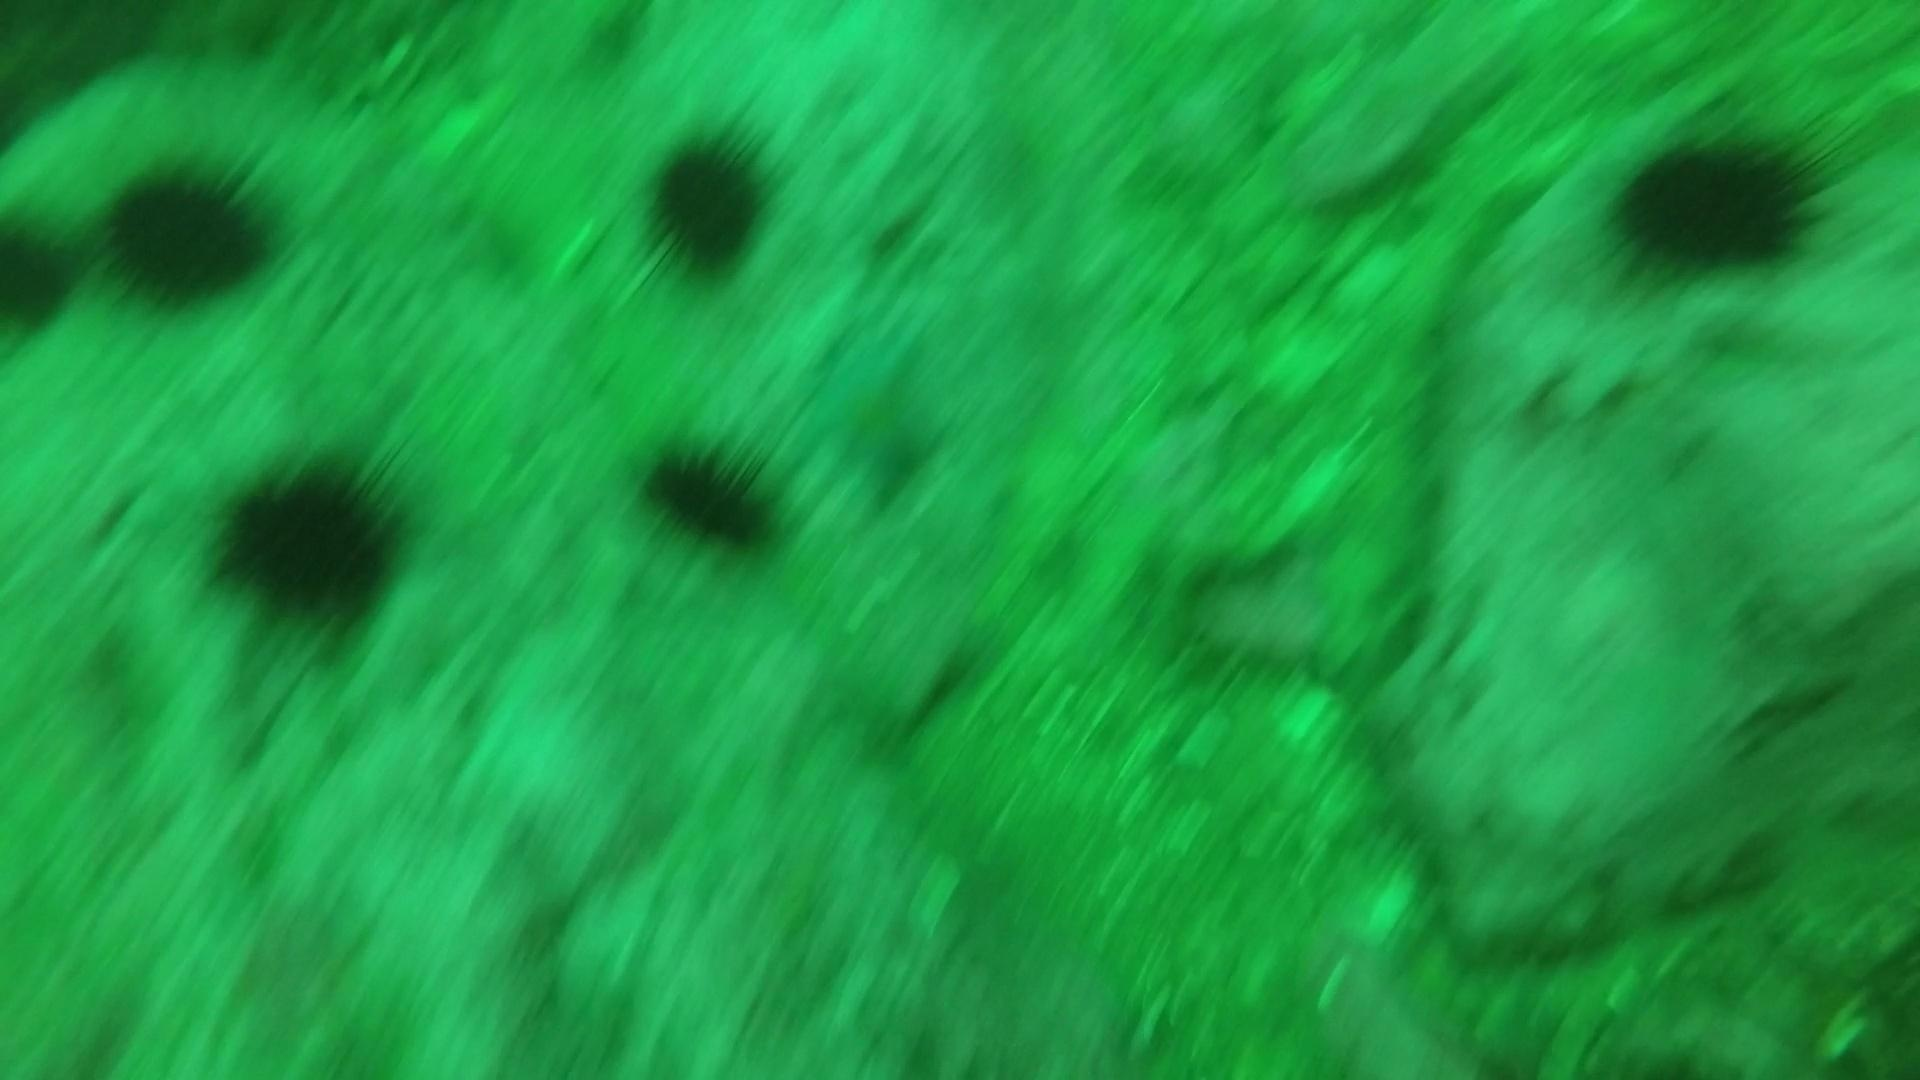echinus: (206, 447, 419, 628), (1600, 124, 1834, 282), (94, 152, 286, 313), (636, 123, 782, 285), (634, 433, 789, 556), (0, 208, 82, 343)
starfish: (790, 334, 949, 502)
